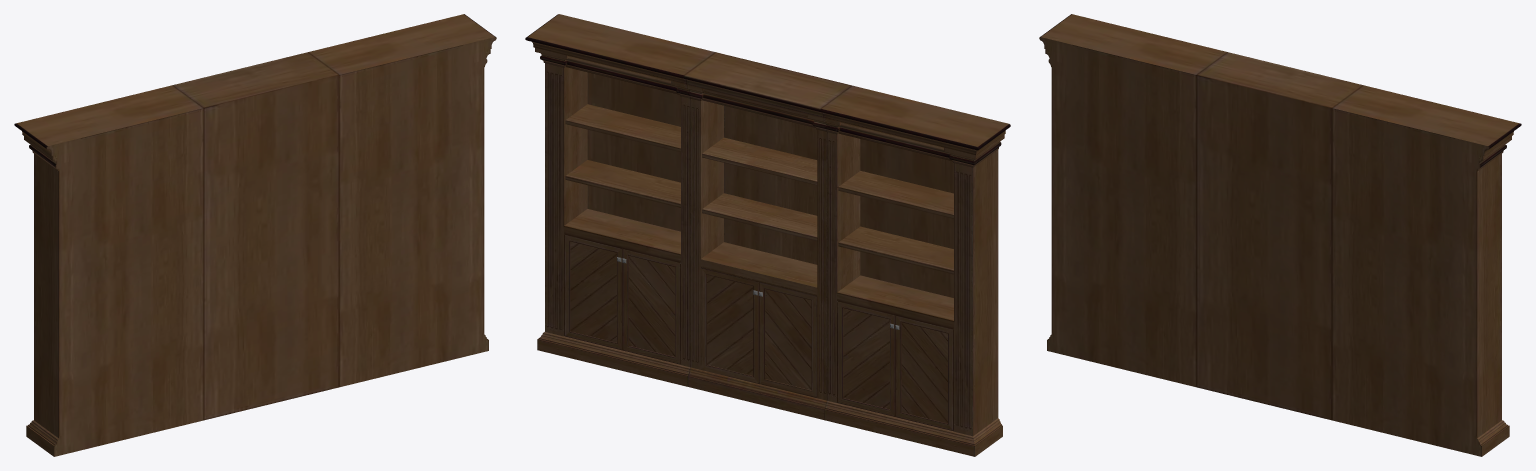
Rendered from etagere.glb.
3 views of the same model, side by side, from view 1: azimuth 30°, elevation 25°; view 2: azimuth 150°, elevation 25°; view 3: azimuth 330°, elevation 25° (orthographic).
Parts seen in each view (by area): view 1: re_shelf_side_L, re_shelf_center; view 2: re_shelf_side_L, re_shelf_center; view 3: re_shelf_side_L, re_shelf_center.
Boxes of the visible parts, x1,y1,x2,y2 form: re_shelf_side_L: [14, 14, 496, 456]; re_shelf_center: [172, 52, 339, 420]; re_shelf_side_L: [525, 14, 1010, 456]; re_shelf_center: [683, 52, 851, 420]; re_shelf_side_L: [1039, 14, 1521, 456]; re_shelf_center: [1196, 52, 1363, 420].
Bounding box in the file's own units: 3.32 × 2.2 × 0.4109.
Materials: 2 (2 with a texture image).
